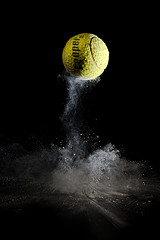tennis ball: (61, 31, 109, 79)
